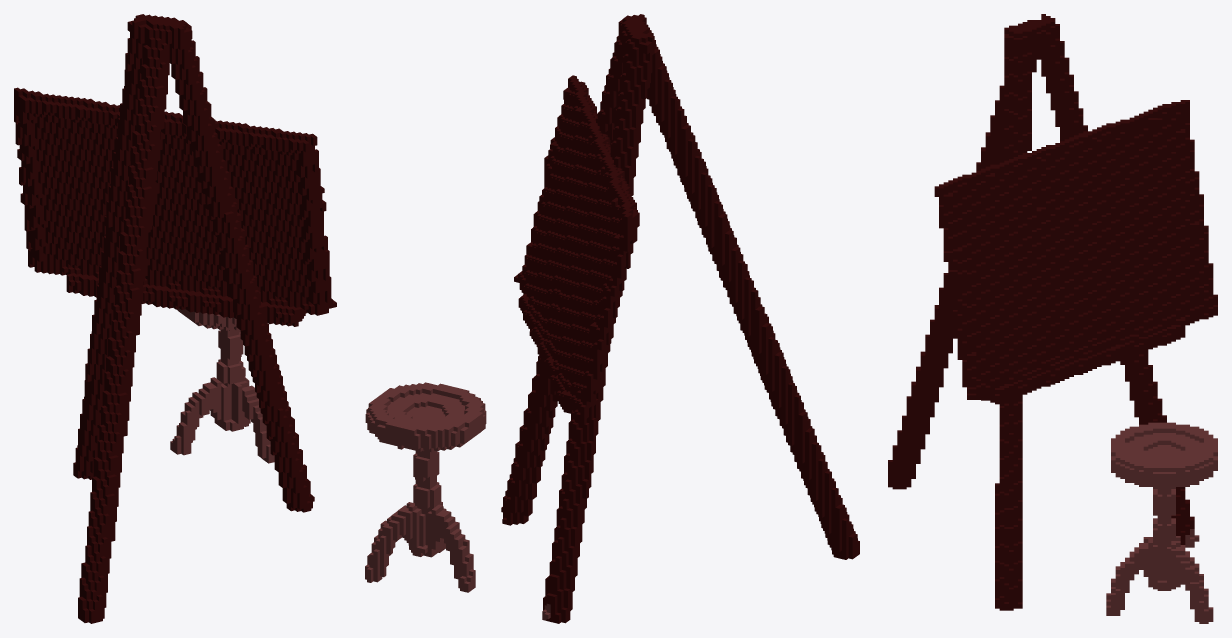
File: risovach.obj
The picture shows the model from 3 angles, left to right: view 1: azimuth 30°, elevation 25°; view 2: azimuth 150°, elevation 25°; view 3: azimuth 270°, elevation 25°; orthographic projection. The views are drawn at different scales.
Bounding box in the file's own units: 83 × 125 × 71.
1 material, 1 textured.
